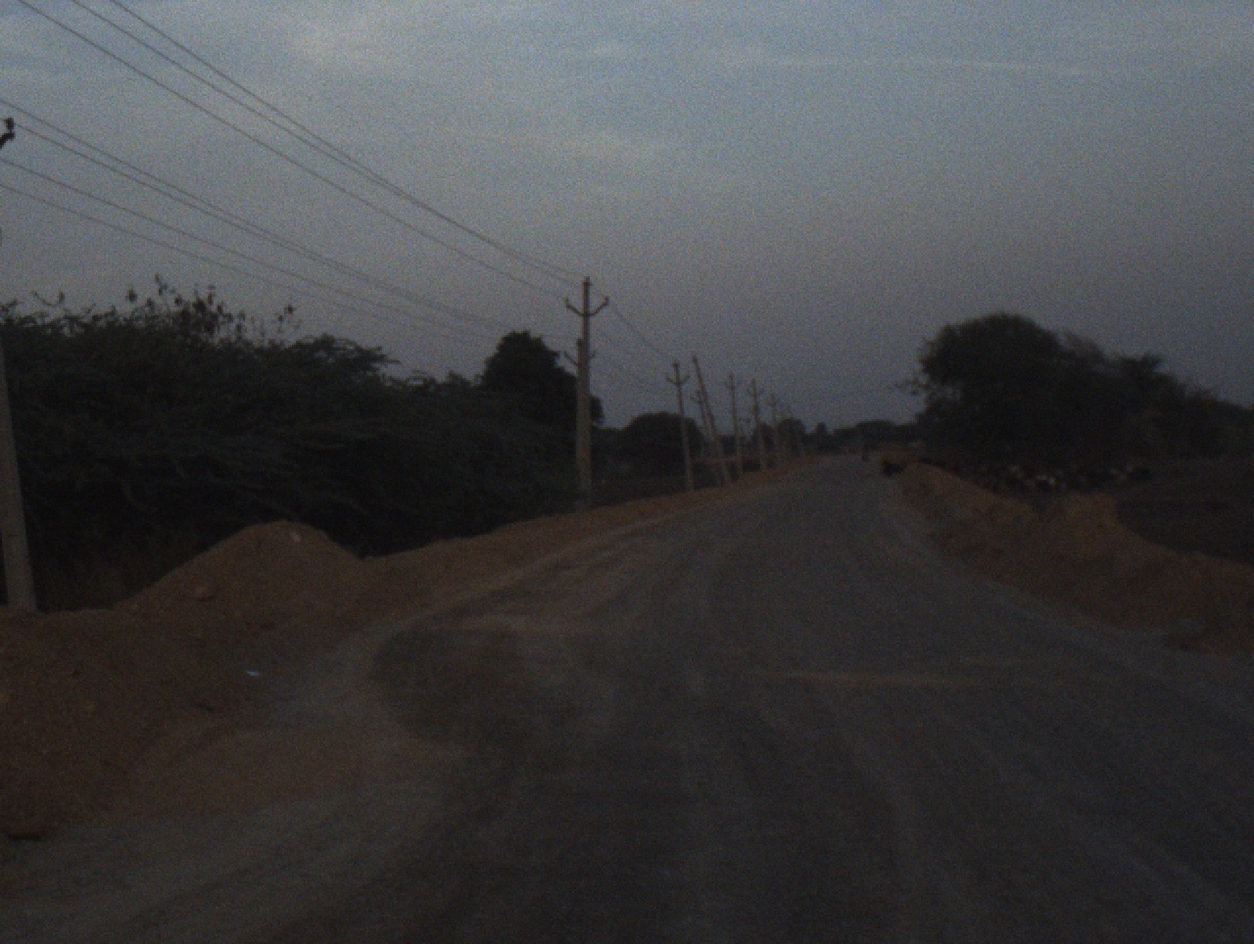animal: (986, 450, 1034, 488), (927, 447, 975, 472), (1039, 463, 1085, 485), (886, 440, 918, 465), (1103, 459, 1137, 481)
person: (855, 440, 875, 481)
